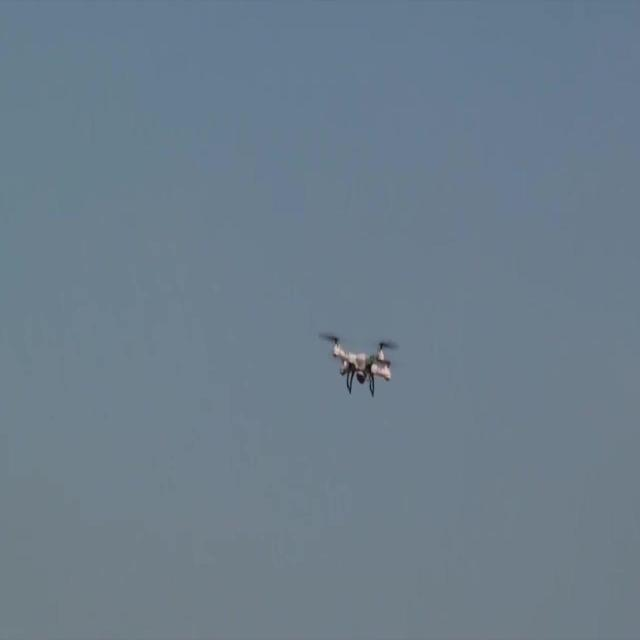drone: (322, 331, 397, 402)
